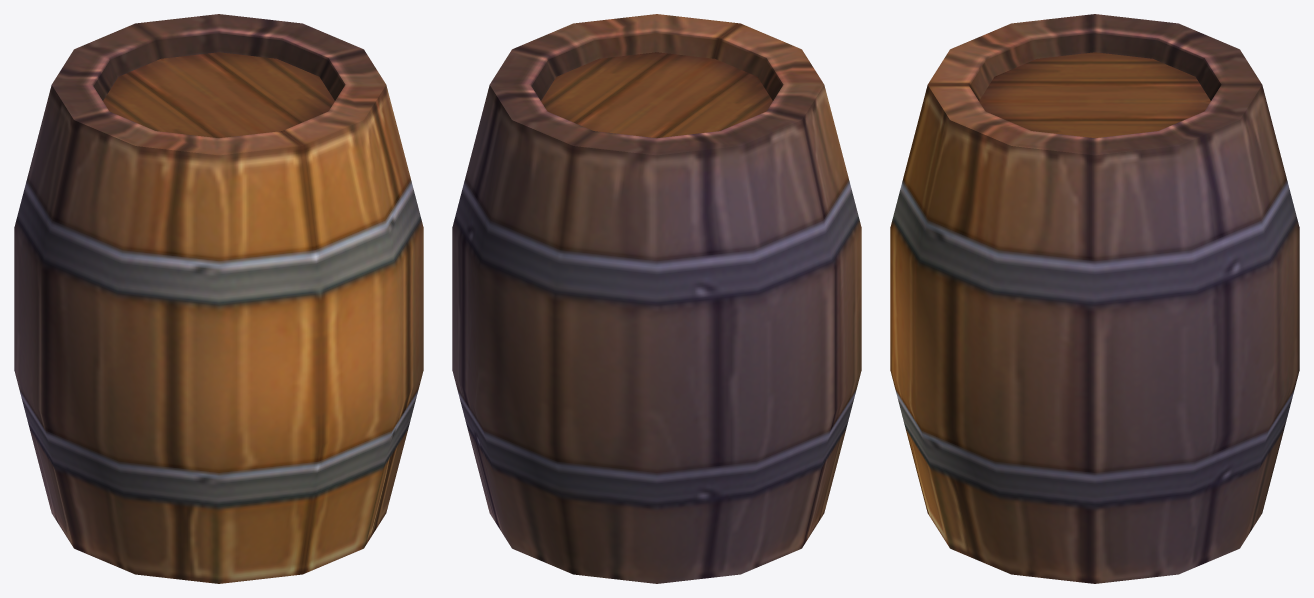
File: scenes_construction_keg01.FBX
The picture shows the model from 3 angles, left to right: view 1: azimuth 30°, elevation 25°; view 2: azimuth 150°, elevation 25°; view 3: azimuth 270°, elevation 25°; orthographic projection.
Parts seen in each view (by area): view 1: scenes_construction_keg01; view 2: scenes_construction_keg01; view 3: scenes_construction_keg01.
Part boxes in pixels (<box>): scenes_construction_keg01: <box>14,14,423,583</box>; scenes_construction_keg01: <box>452,14,861,583</box>; scenes_construction_keg01: <box>890,14,1299,583</box>.
Bounding box in the file's own units: 228 × 263 × 228.
